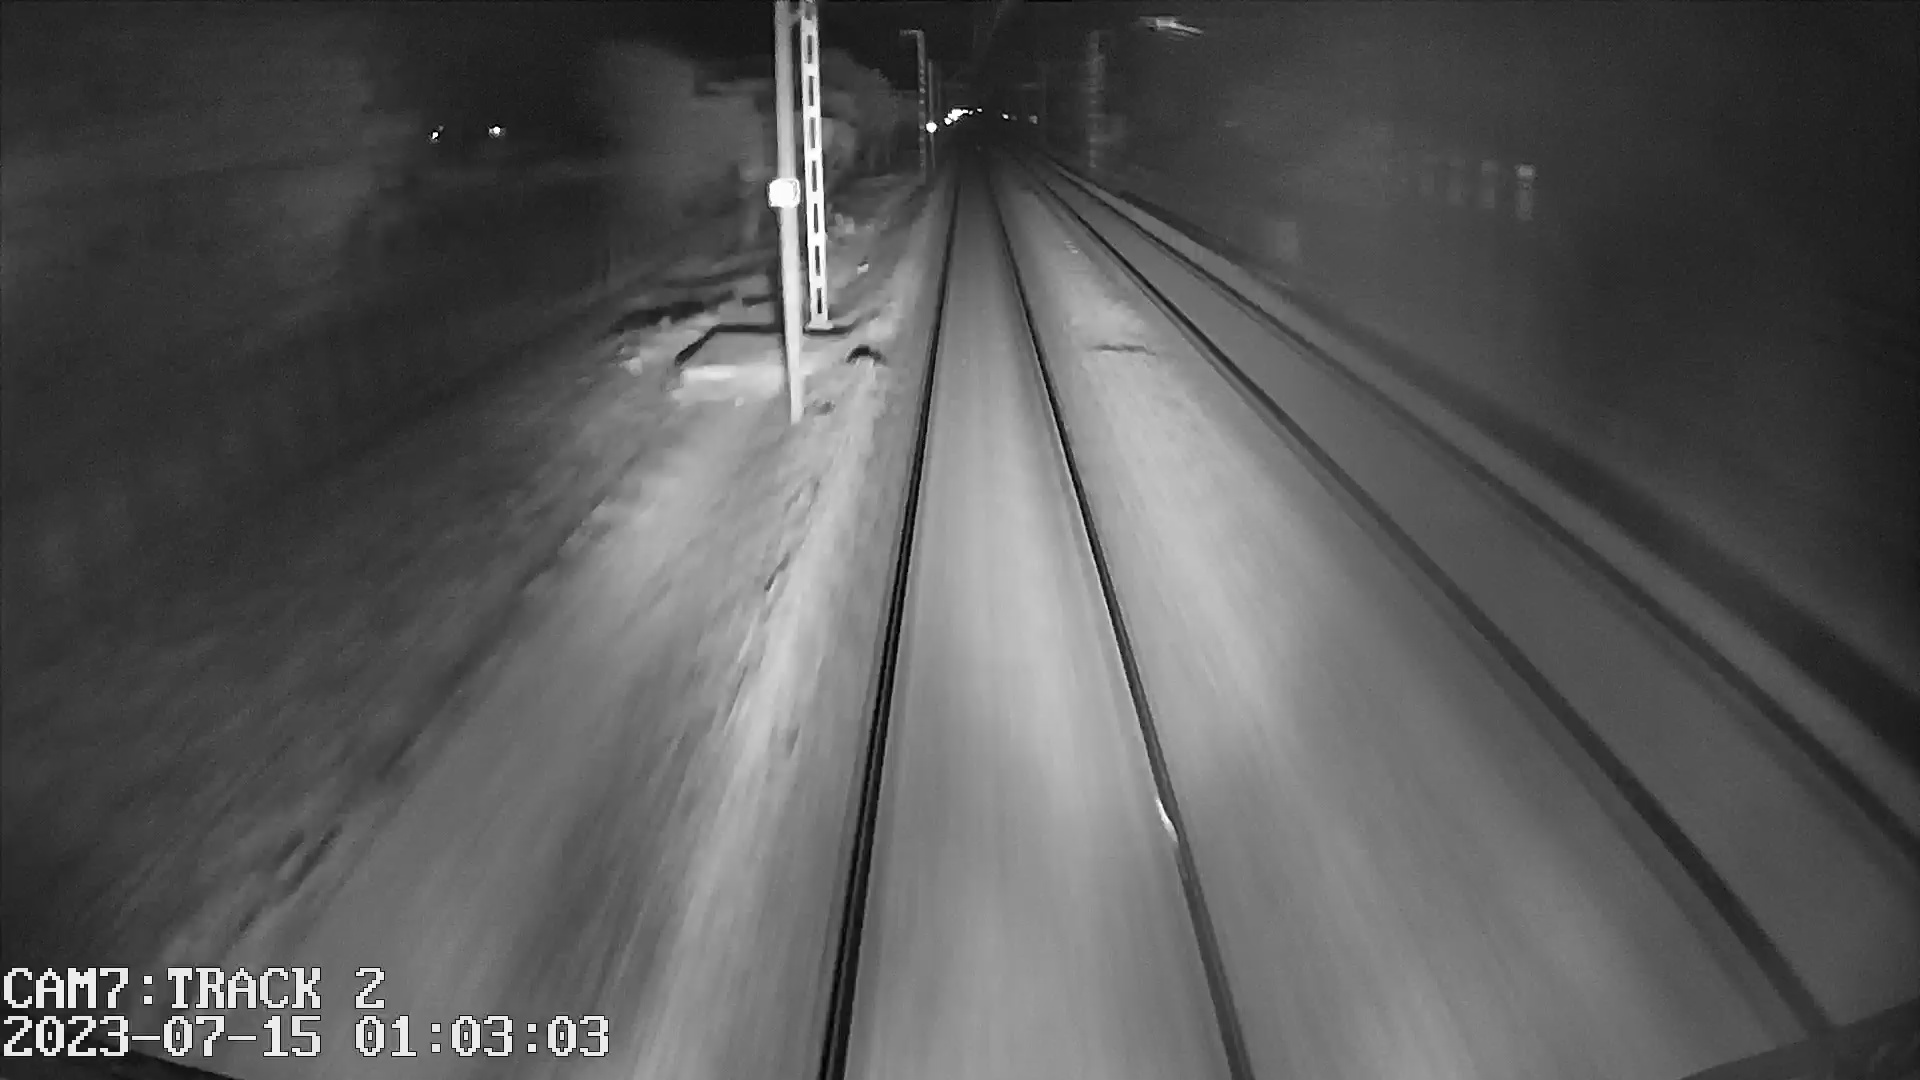track1: (834, 166, 1241, 1062)
track2: (1034, 167, 1913, 1012)
